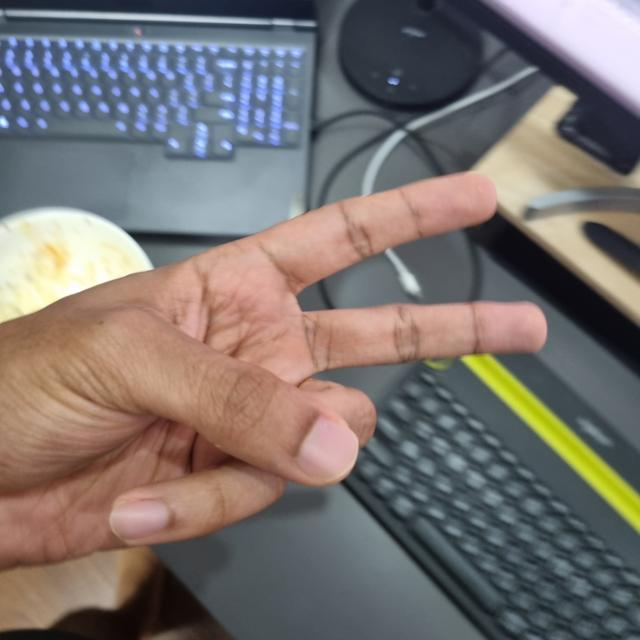Scissors: (1, 177, 546, 561)
